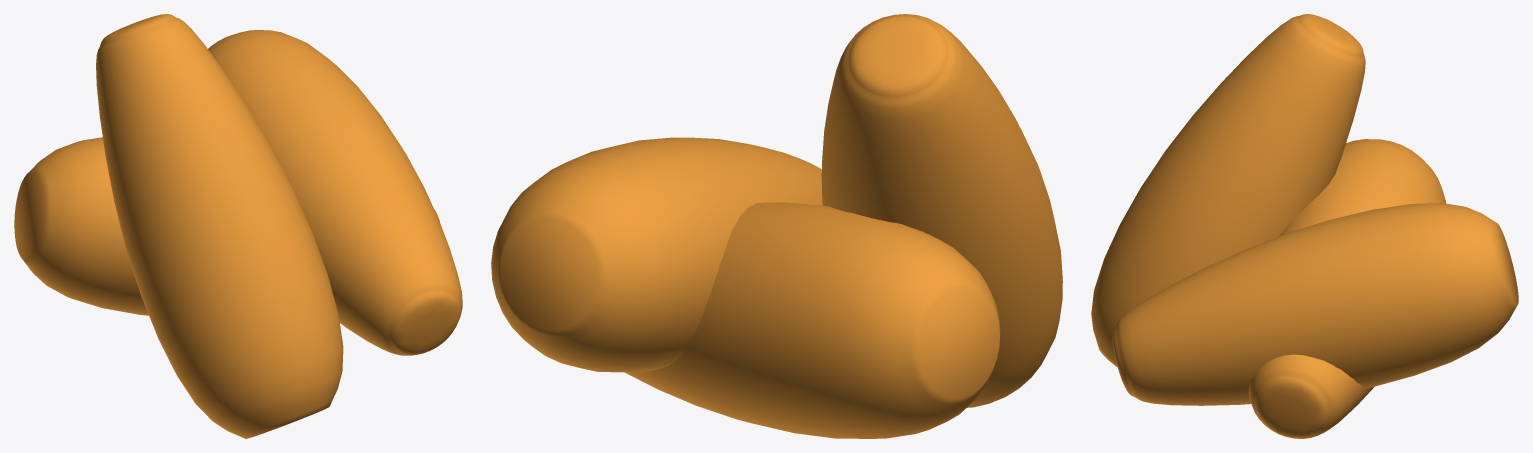
The model's file is CornStack.fbx.
3 views of the same model, side by side, from view 1: azimuth 30°, elevation 25°; view 2: azimuth 150°, elevation 25°; view 3: azimuth 270°, elevation 25° (orthographic). The views are drawn at different scales.
Parts seen in each view (by area): view 1: Corn_Stack; view 2: Corn_Stack; view 3: Corn_Stack.
Boxes of the visible parts, x1,y1,x2,y2 form: Corn_Stack: [14, 14, 462, 438]; Corn_Stack: [491, 14, 1062, 438]; Corn_Stack: [1091, 14, 1518, 438].
Size of the model in its own units: 6.11 by 5.79 by 6.46.
